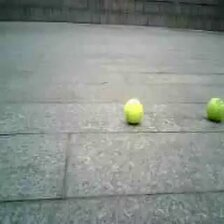tennis: (124, 97, 145, 123), (205, 97, 224, 121)
